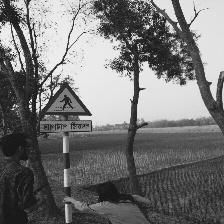Pedestrian-crossing: (39, 82, 93, 133)
